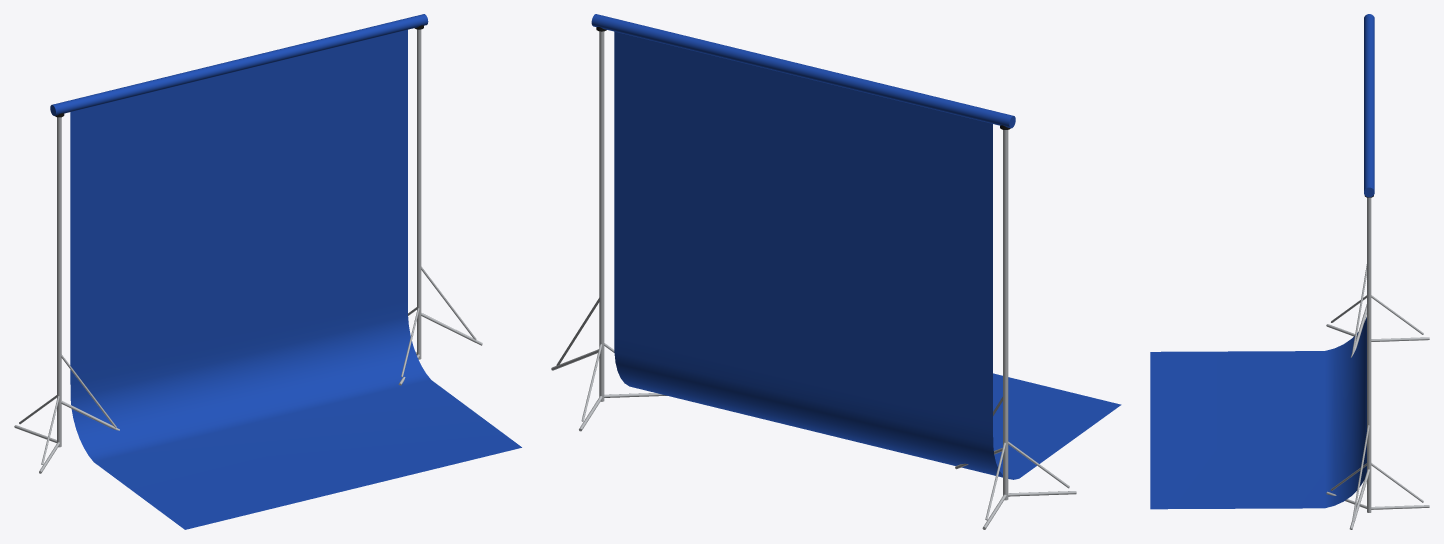
Rendered from fondale-blu.glb.
3 renders of one model, left to right at view 1: azimuth 30°, elevation 25°; view 2: azimuth 150°, elevation 25°; view 3: azimuth 270°, elevation 25°, orthographic. The views are drawn at different scales.
Size of the model in its own units: 3.67 by 2.66 by 2.04.
